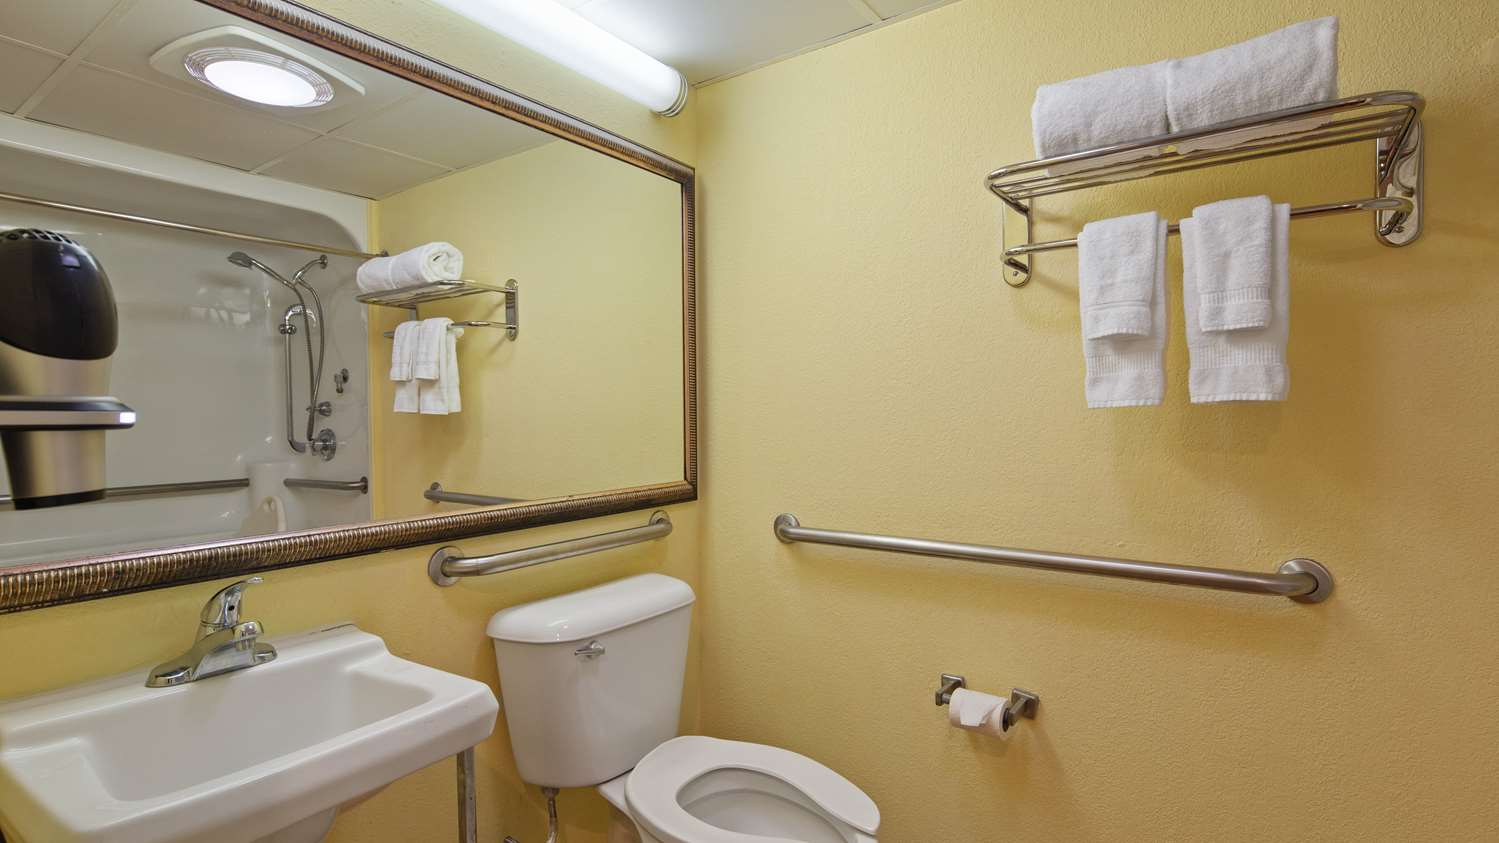dispenser: (923, 666, 1075, 744)
faucet: (145, 567, 282, 691)
restroom_assist_bar: (765, 508, 1341, 614), (423, 505, 683, 588), (2, 478, 248, 514), (274, 306, 306, 433), (282, 464, 373, 499)
sink: (1, 614, 504, 843)
toilet: (486, 572, 888, 843)
toilet_handle: (566, 637, 608, 671)
